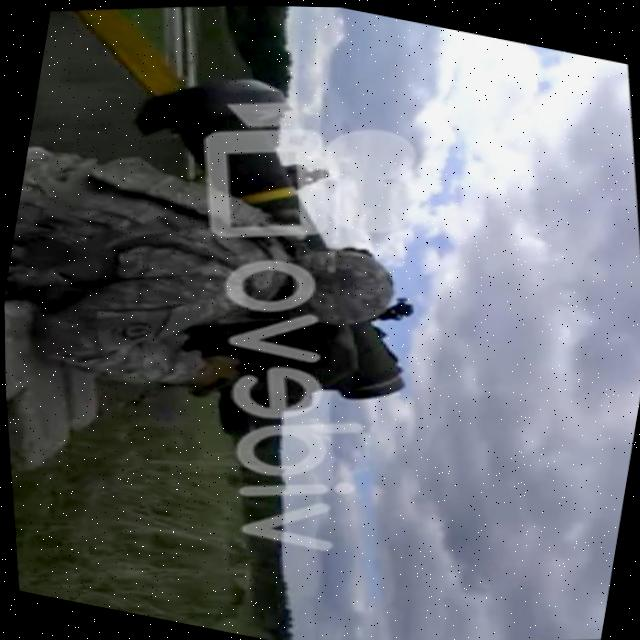rocket: (83, 31, 459, 452)
